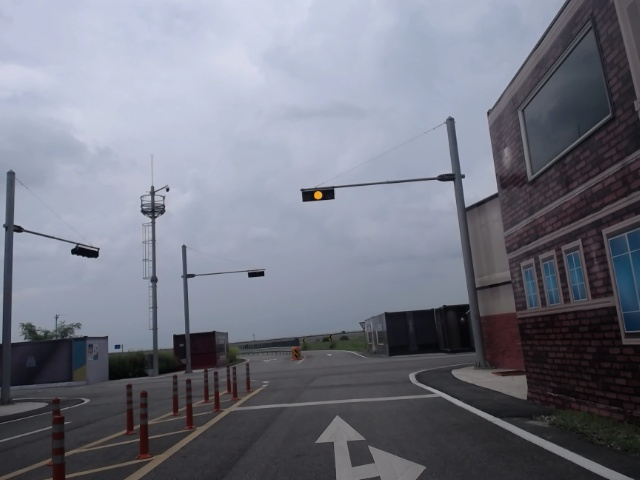orange_3: (302, 187, 335, 201)
